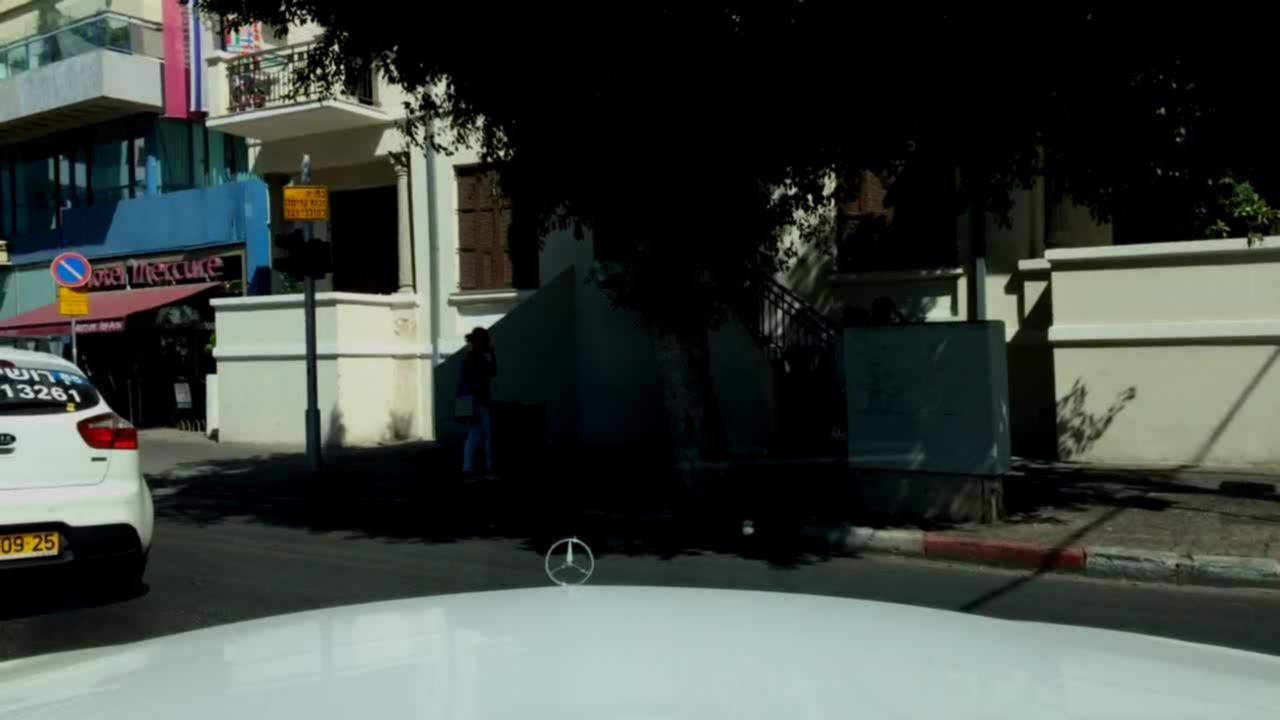Mercedes: (545, 533, 601, 590)
kia: (0, 429, 18, 448)
